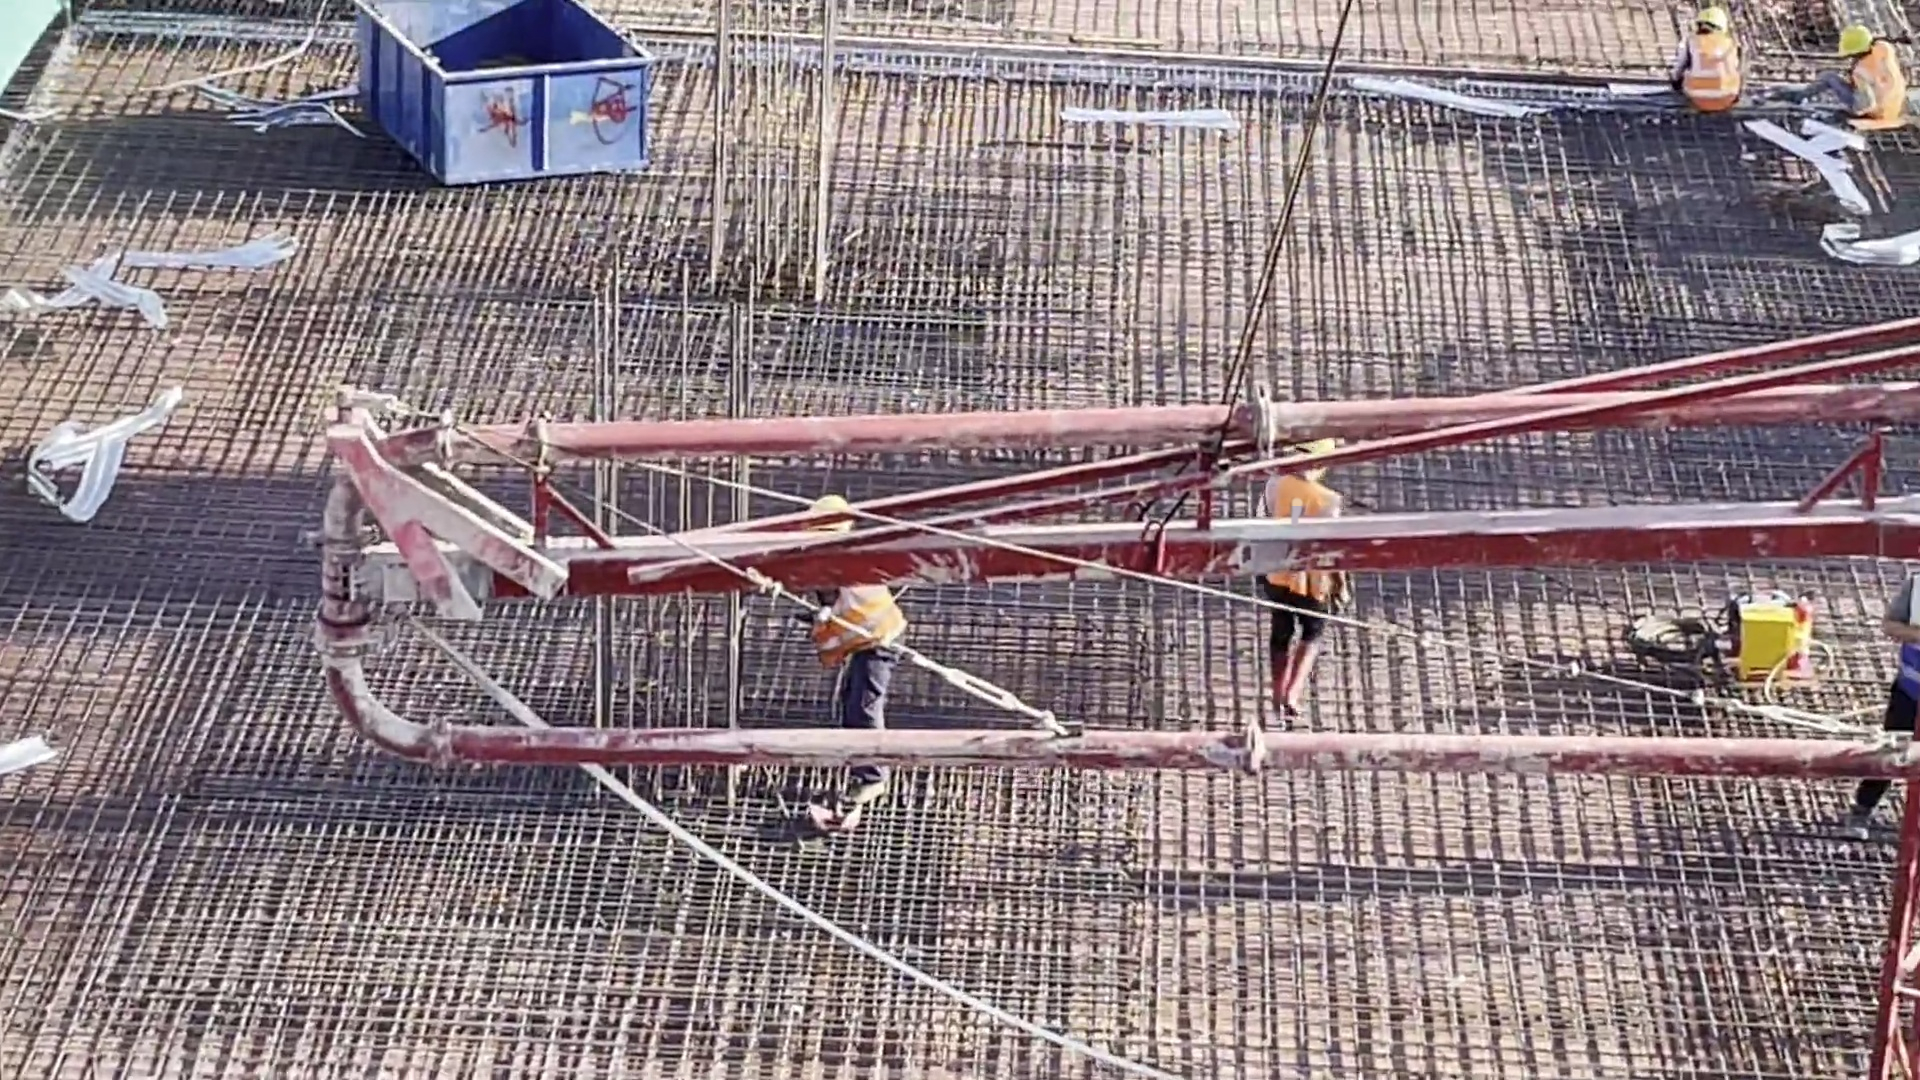helmet: (806, 499, 851, 527), (1837, 25, 1879, 56), (1700, 8, 1732, 31)
hopper: (364, 8, 650, 170)
person: (785, 493, 908, 822), (1244, 430, 1340, 713), (1844, 546, 1920, 846), (1760, 21, 1909, 125), (1668, 4, 1745, 124)
vest: (1264, 481, 1339, 605), (820, 587, 911, 660), (1683, 37, 1745, 115), (1847, 61, 1904, 111), (1899, 580, 1920, 702)
